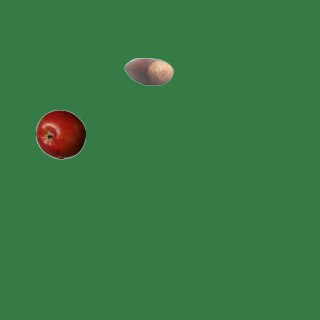Apple Braeburn: (35, 109, 85, 159)
Hazelnut: (123, 46, 173, 96)
